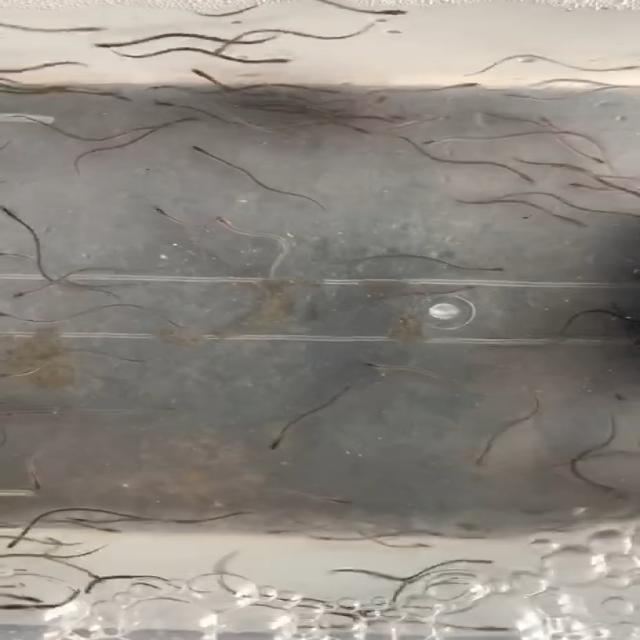active_glass_eel: (253, 53, 316, 74), (363, 358, 419, 381), (33, 79, 88, 101), (256, 427, 300, 452), (70, 16, 113, 40), (179, 68, 230, 88), (78, 31, 118, 56), (372, 2, 412, 26), (138, 198, 187, 217), (109, 90, 156, 109), (258, 526, 299, 546), (70, 581, 113, 600), (477, 619, 525, 636), (470, 260, 515, 278), (0, 202, 34, 225), (210, 546, 244, 568), (20, 585, 52, 608), (193, 42, 231, 61), (422, 133, 472, 147), (320, 563, 355, 583), (591, 482, 629, 499), (2, 288, 45, 303), (581, 151, 613, 171), (464, 452, 504, 468), (564, 178, 603, 194), (330, 494, 371, 509), (203, 217, 241, 233), (447, 280, 505, 290), (182, 143, 226, 156), (518, 78, 549, 96), (439, 78, 489, 89), (95, 526, 133, 540), (518, 168, 547, 186), (564, 212, 590, 232), (15, 478, 49, 492), (151, 100, 184, 114), (495, 91, 536, 102), (428, 525, 458, 540), (179, 114, 216, 126), (339, 122, 370, 136), (314, 531, 351, 542), (2, 534, 27, 550), (59, 514, 92, 525), (136, 118, 160, 132), (3, 600, 26, 614), (320, 86, 343, 98), (367, 94, 388, 106), (411, 539, 431, 549), (368, 114, 383, 126)
